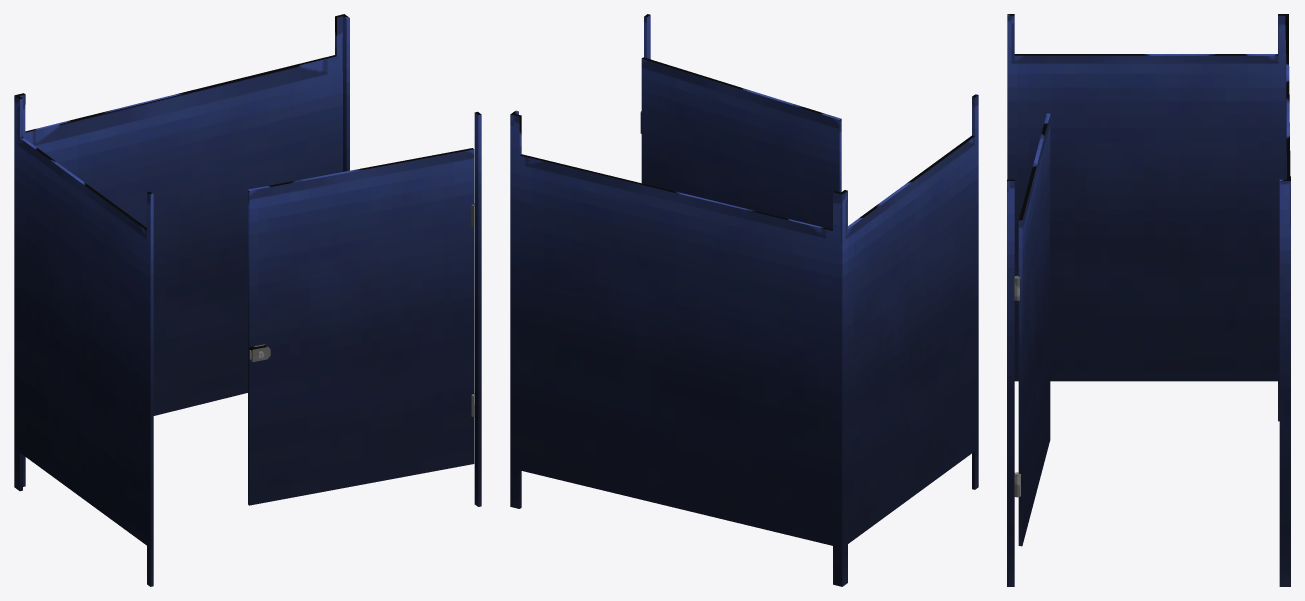
The model's file is stall_open_R.fbx.
3 views of the same model, side by side, from view 1: azimuth 30°, elevation 25°; view 2: azimuth 150°, elevation 25°; view 3: azimuth 270°, elevation 25° (orthographic). The views are drawn at different scales.
Parts seen in each view (by area): view 1: stall_open_R; view 2: stall_open_R; view 3: stall_open_R.
Boxes of the visible parts, box(x1,y1,x2,y2) form: stall_open_R: box(14, 14, 481, 586); stall_open_R: box(510, 14, 978, 586); stall_open_R: box(1007, 14, 1290, 586).
Bounding box in the file's own units: 2.13 × 2.4 × 1.52.
Materials: 1 (1 with a texture image).
